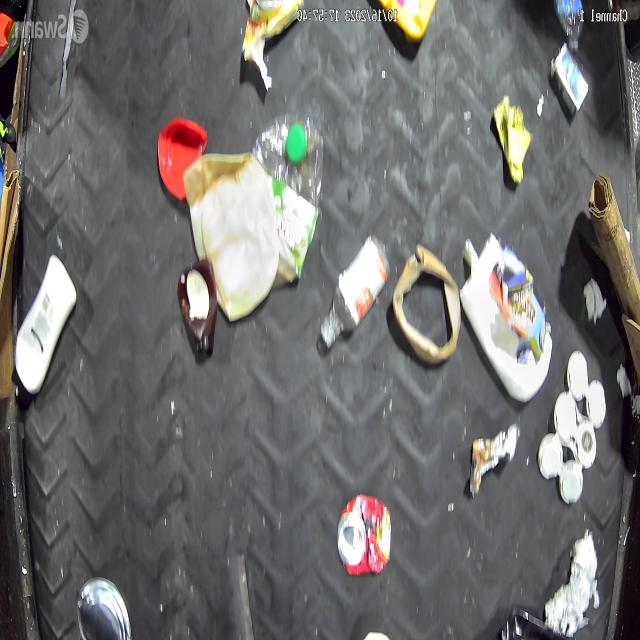can: (337, 494, 391, 577), (73, 575, 133, 640)
non_white_jug: (459, 233, 553, 403)
plastic_bottle: (253, 110, 325, 292), (321, 236, 390, 350), (555, 0, 584, 49)
